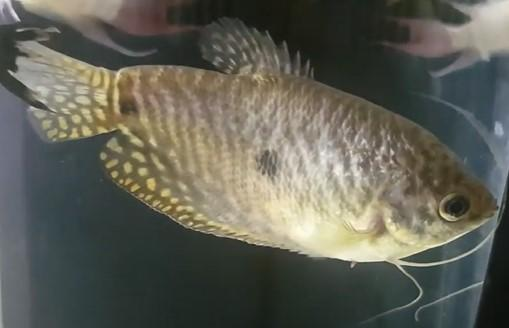Gourami: (14, 23, 502, 306)
